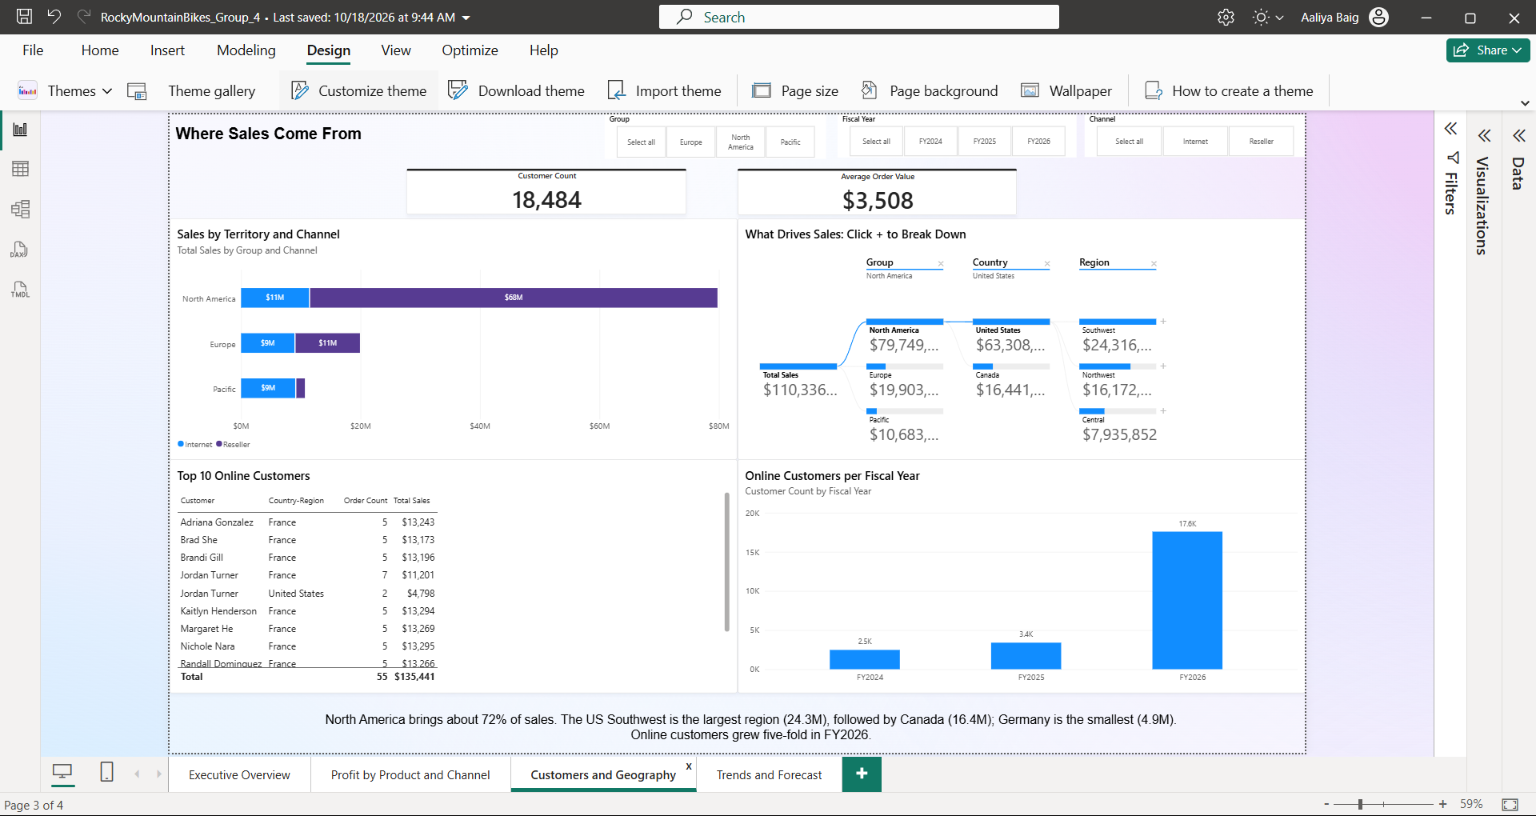

This screenshot's page, from the dashboard's own definition file:
{"tool":"powerbi","page":{"name":"Customers and Geography","canvas":[1920,1080],"ordinal":2},"visuals":[{"type":"textbox","box":[10.7,0,440.4,77],"z":0},{"type":"slicer","fields":{"Values":["Dates.Fiscal Year"]},"box":[1128.9,0,404.1,72.7],"z":1000},{"type":"slicer","fields":{"Values":["Sales.Channel"]},"box":[1547.2,0,372.8,72.4],"z":2000},{"type":"slicer","fields":{"Values":["Territories.Group"]},"box":[735.5,0,374.2,74.8],"z":3000},{"type":"barChart","title":"Sales by Territory and Channel","fields":{"Category":["Territories.Geography Hierarchy.Group","Territories.Geography Hierarchy.Country","Territories.Geography Hierarchy.Region"],"Series":["Sales.Channel"],"Y":["_Measures.Total Sales"]},"box":[0,175.3,960,408.4],"z":4000},{"type":"decompositionTreeVisual","title":"What Drives Sales: Click + to Break Down","fields":{"Analyze":["_Measures.Total Sales"],"ExplainBy":["Territories.Group","Territories.Country","Territories.Region","Sales.Channel","Products.Category"]},"box":[960,175.3,960,408.4],"z":5000},{"type":"clusteredColumnChart","title":"Online Customers per Fiscal Year","fields":{"Category":["Dates.Fiscal Year"],"Y":["_Measures.Customer Count"]},"box":[960,583.7,960,395.5],"z":6000},{"type":"tableEx","title":"Top 10 Online Customers","fields":{"Values":["Customers.Customer","Customers.Country-Region","_Measures.Order Count","_Measures.Total Sales"]},"box":[0,583.7,960,395.5],"z":7000},{"type":"cardVisual","fields":{"Data":["_Measures.Customer Count"]},"box":[400.8,91.6,473.3,78.3],"z":8000},{"type":"cardVisual","fields":{"Data":["_Measures.Average Order Value"]},"box":[960,91.6,472.5,79.1],"z":9000},{"type":"textbox","box":[230.9,994.2,1503.1,85.5],"z":10000}]}

Visuals, with their boxes on the page's 1920x1080 design canvas (x1, y1, x2, y2). These are canvas units, not pixel positions in the 1536x816 screenshot, which may show the page scaled, cropped or inside an application window:
textbox: 11, 0, 451, 77
slicer - Dates.Fiscal Year: 1129, 0, 1533, 73
slicer - Sales.Channel: 1547, 0, 1920, 72
slicer - Territories.Group: 736, 0, 1110, 75
"Sales by Territory and Channel" barChart: 0, 175, 960, 584
"What Drives Sales: Click + to Break Down" decompositionTreeVisual: 960, 175, 1920, 584
"Online Customers per Fiscal Year" clusteredColumnChart: 960, 584, 1920, 979
"Top 10 Online Customers" tableEx: 0, 584, 960, 979
cardVisual - _Measures.Customer Count: 401, 92, 874, 170
cardVisual - _Measures.Average Order Value: 960, 92, 1432, 171
textbox: 231, 994, 1734, 1080
